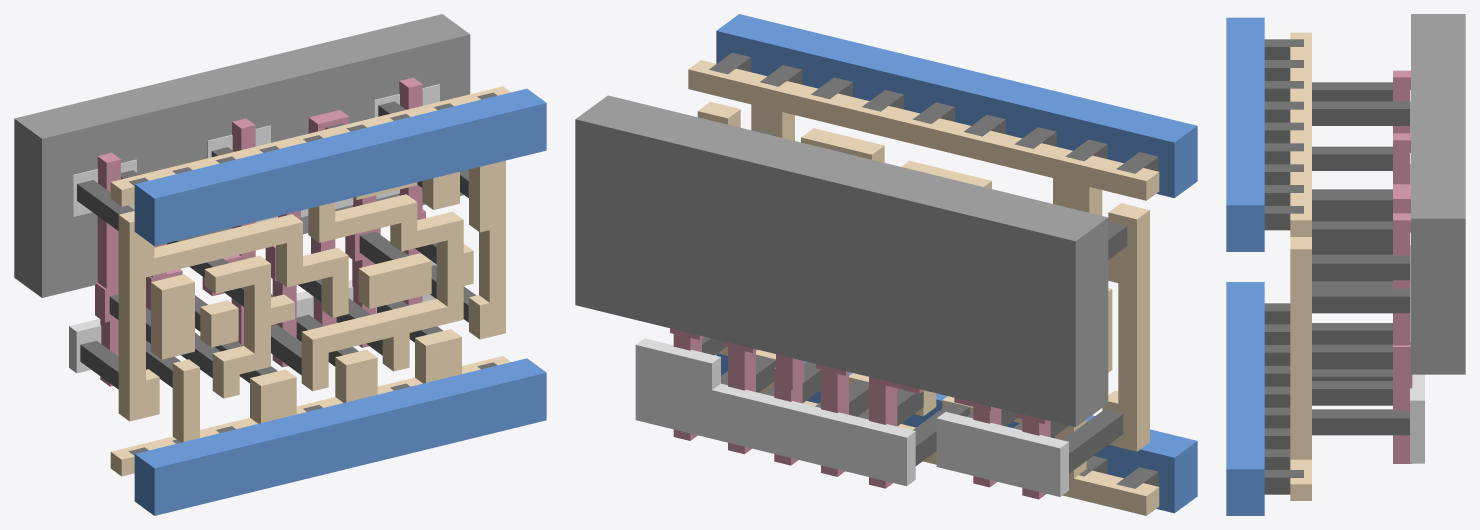
The model's file is sky130_fd_sc_hd__or4bb_1.gds.gltf.
The picture shows the model from 3 angles, left to right: view 1: azimuth 30°, elevation 25°; view 2: azimuth 150°, elevation 25°; view 3: azimuth 270°, elevation 25°; orthographic projection. The views are drawn at different scales.
Visible parts, largest first — view 1: sky130_fd_sc_hd__or4bb_1_li1, sky130_fd_sc_hd__or4bb_1_met1, sky130_fd_sc_hd__or4bb_1_nwell, sky130_fd_sc_hd__or4bb_1_licon, sky130_fd_sc_hd__or4bb_1_poly, sky130_fd_sc_hd__or4bb_1_diff, sky130_fd_sc_hd__or4bb_1_mcon; view 2: sky130_fd_sc_hd__or4bb_1_nwell, sky130_fd_sc_hd__or4bb_1_li1, sky130_fd_sc_hd__or4bb_1_met1, sky130_fd_sc_hd__or4bb_1_diff, sky130_fd_sc_hd__or4bb_1_poly, sky130_fd_sc_hd__or4bb_1_licon, sky130_fd_sc_hd__or4bb_1_mcon; view 3: sky130_fd_sc_hd__or4bb_1_licon, sky130_fd_sc_hd__or4bb_1_nwell, sky130_fd_sc_hd__or4bb_1_met1, sky130_fd_sc_hd__or4bb_1_mcon, sky130_fd_sc_hd__or4bb_1_li1, sky130_fd_sc_hd__or4bb_1_poly, sky130_fd_sc_hd__or4bb_1_diff.
Boxes of the visible parts, x1,y1,x2,y2 form: sky130_fd_sc_hd__or4bb_1_li1: (110,86,510,476); sky130_fd_sc_hd__or4bb_1_met1: (134,88,546,515); sky130_fd_sc_hd__or4bb_1_nwell: (14,14,470,297); sky130_fd_sc_hd__or4bb_1_licon: (77,101,476,389); sky130_fd_sc_hd__or4bb_1_poly: (95,77,425,386); sky130_fd_sc_hd__or4bb_1_diff: (69,84,439,373); sky130_fd_sc_hd__or4bb_1_mcon: (129,92,497,455); sky130_fd_sc_hd__or4bb_1_nwell: (575,95,1108,427); sky130_fd_sc_hd__or4bb_1_li1: (688,60,1159,515); sky130_fd_sc_hd__or4bb_1_met1: (716,14,1197,513); sky130_fd_sc_hd__or4bb_1_diff: (635,338,1068,496); sky130_fd_sc_hd__or4bb_1_poly: (670,328,1050,499); sky130_fd_sc_hd__or4bb_1_licon: (702,130,1127,473); sky130_fd_sc_hd__or4bb_1_mcon: (709,52,1158,488); sky130_fd_sc_hd__or4bb_1_licon: (1312,82,1409,435); sky130_fd_sc_hd__or4bb_1_nwell: (1411,14,1465,374); sky130_fd_sc_hd__or4bb_1_met1: (1226,17,1264,515); sky130_fd_sc_hd__or4bb_1_mcon: (1264,39,1303,494); sky130_fd_sc_hd__or4bb_1_li1: (1290,32,1311,500); sky130_fd_sc_hd__or4bb_1_poly: (1393,70,1412,463); sky130_fd_sc_hd__or4bb_1_diff: (1410,90,1424,463).
Size of the model in its own units: 4.52 by 3.2 by 2.24.
